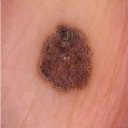Bowen: (39, 23, 94, 94)
